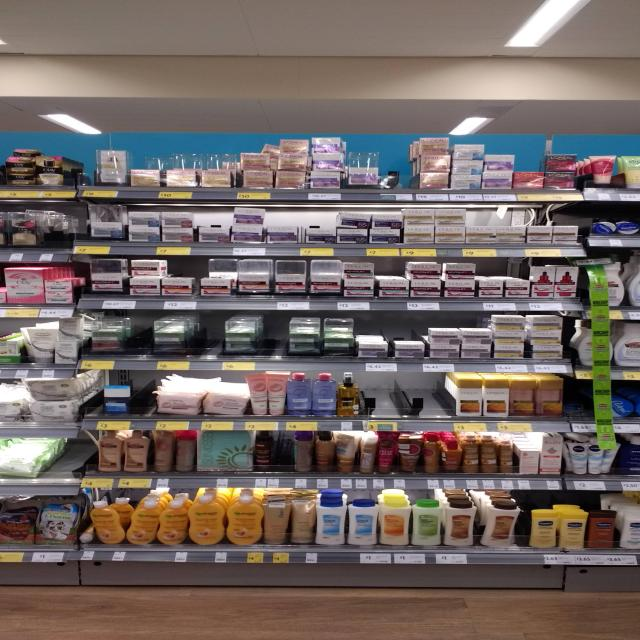empty: (363, 372, 442, 416), (130, 311, 153, 356), (267, 313, 288, 355), (202, 312, 223, 354)
